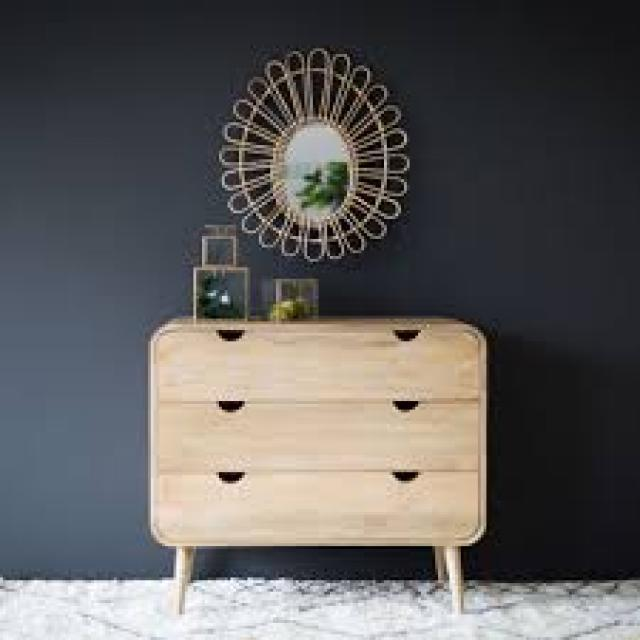mobile-phone: (144, 314, 490, 618)
